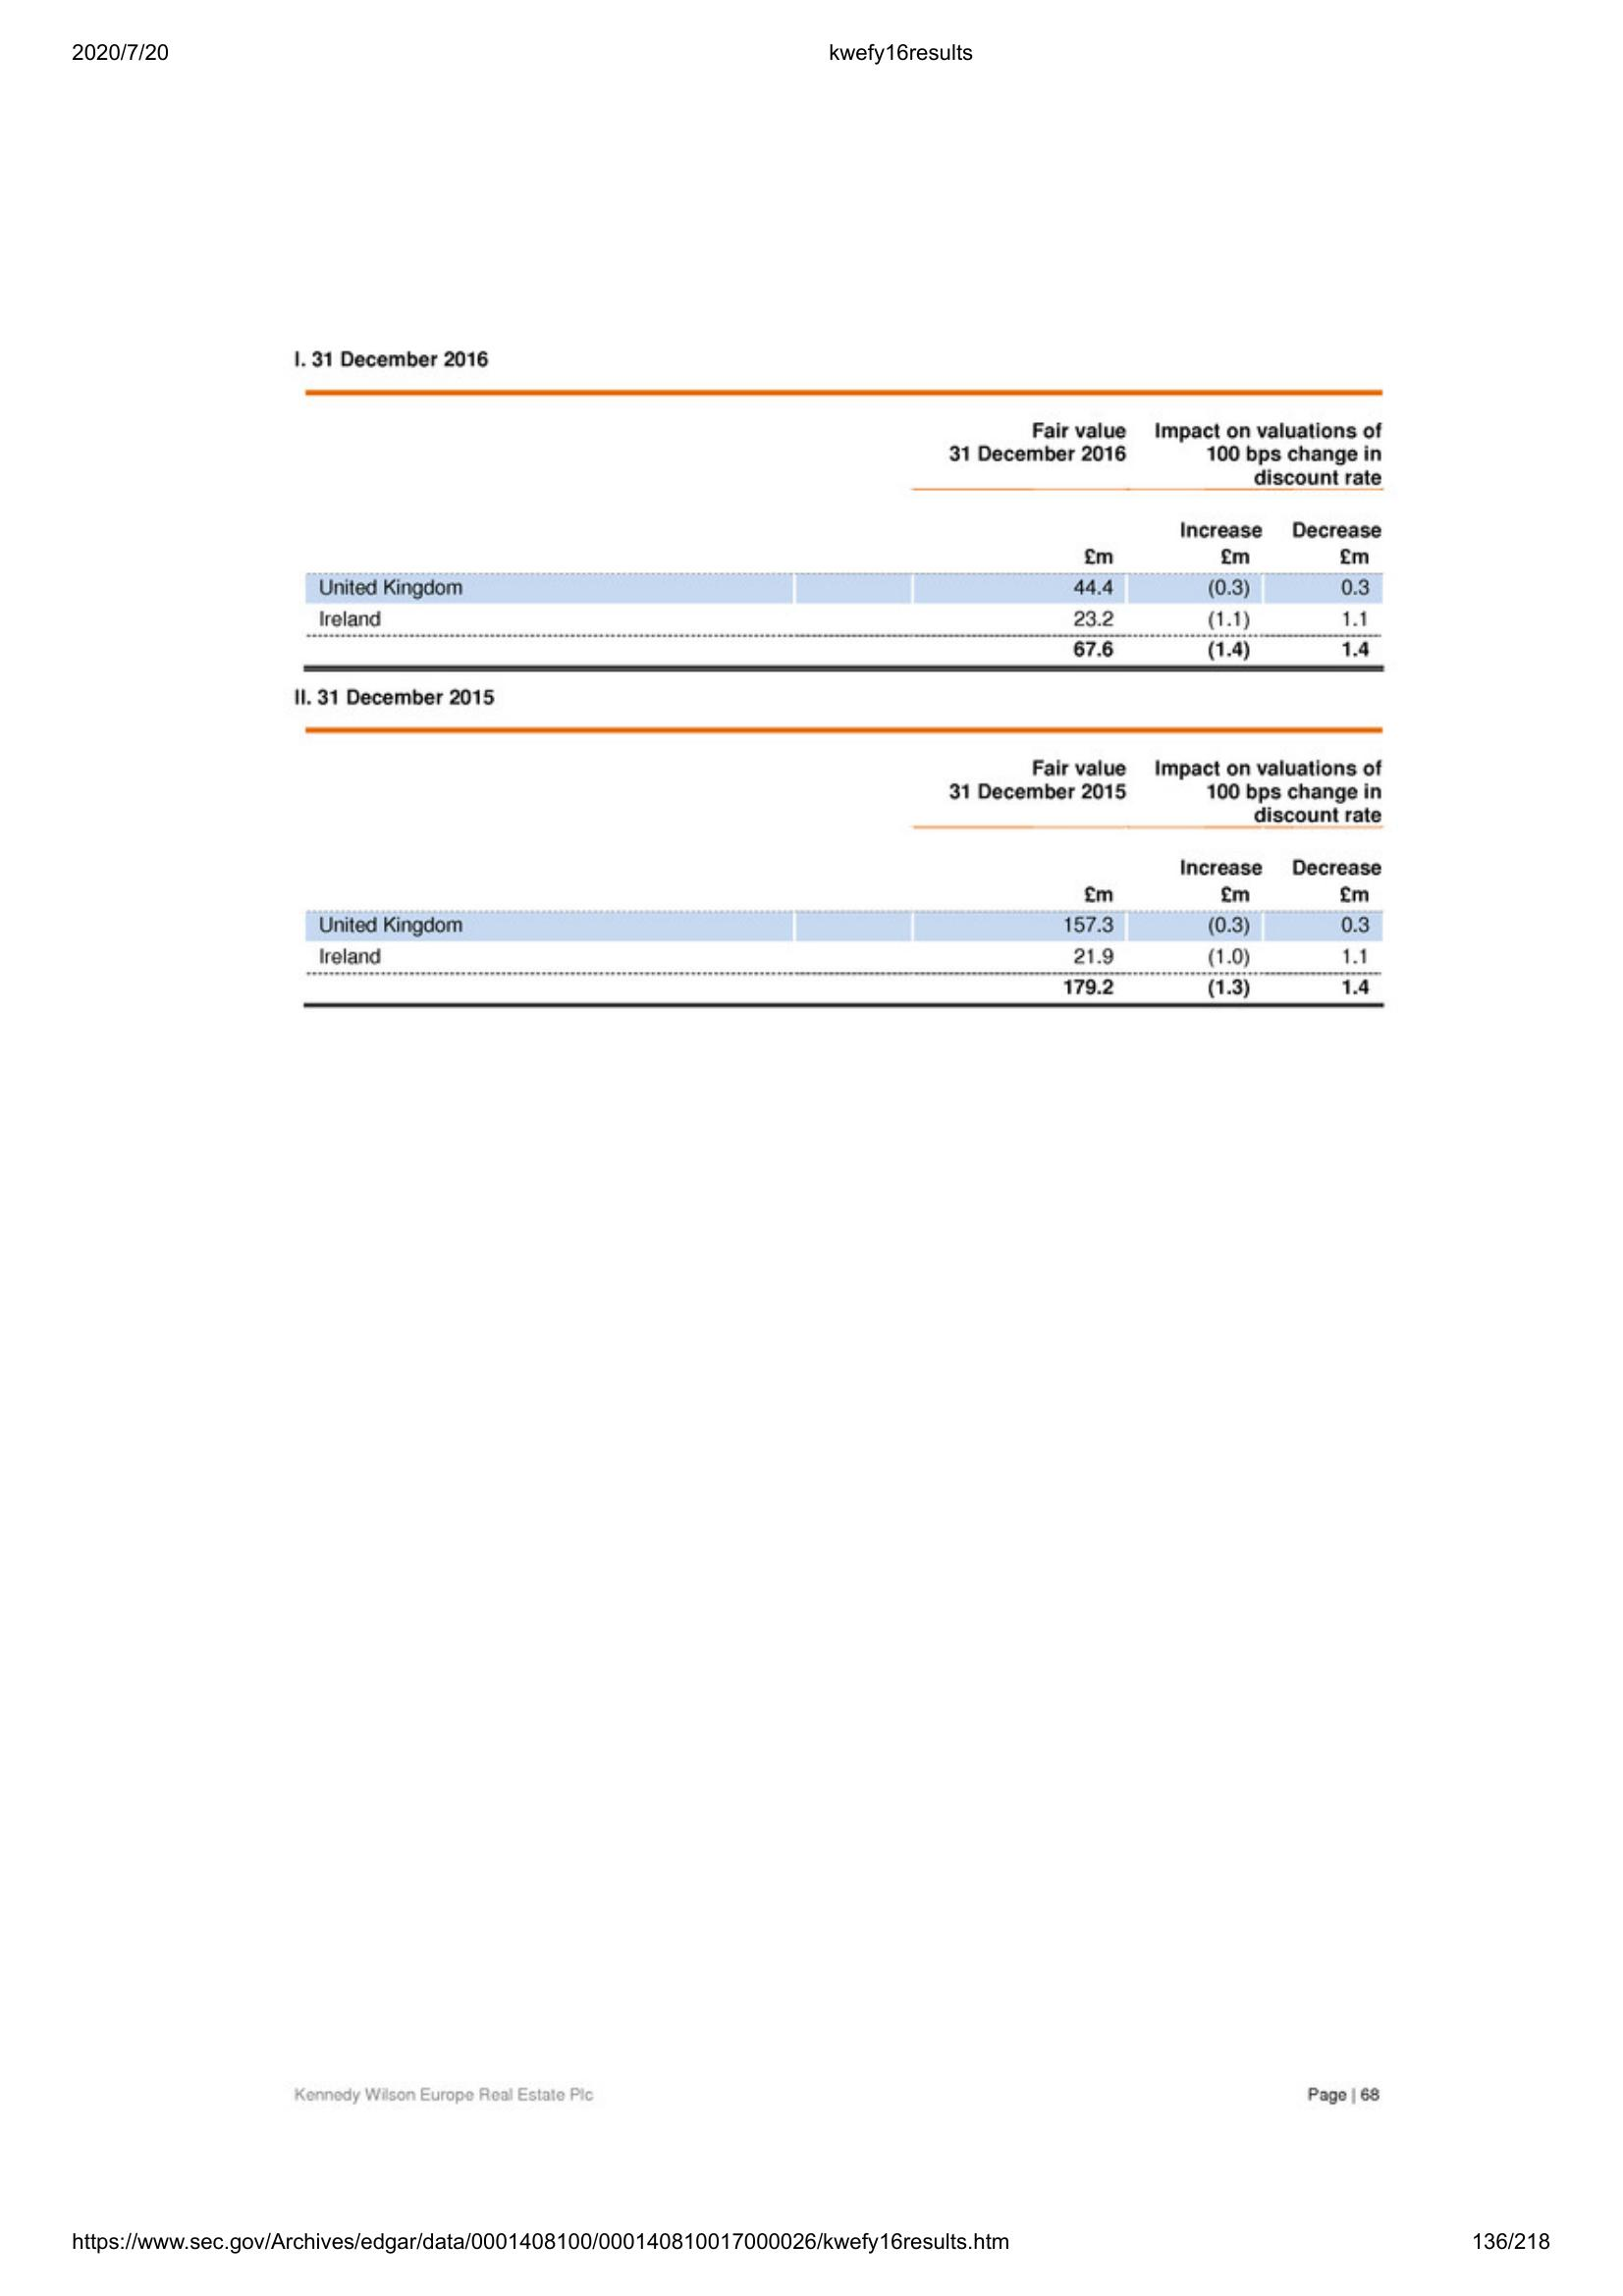table: (299, 381, 1391, 678), (299, 725, 1395, 1016)
